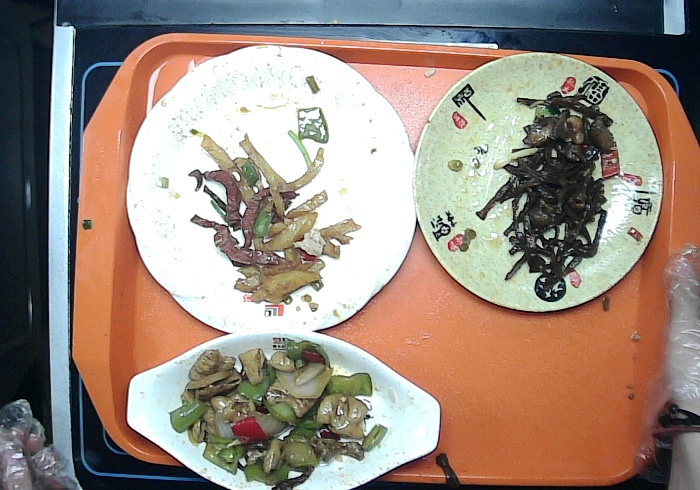NLDX-Bai_Zhe_Yuan_Pan: (121, 46, 424, 339)
NLDX-Fu_Zi_Yuan_Pan: (413, 57, 669, 322)
NLDX-Yu_Pan: (119, 325, 448, 490)
